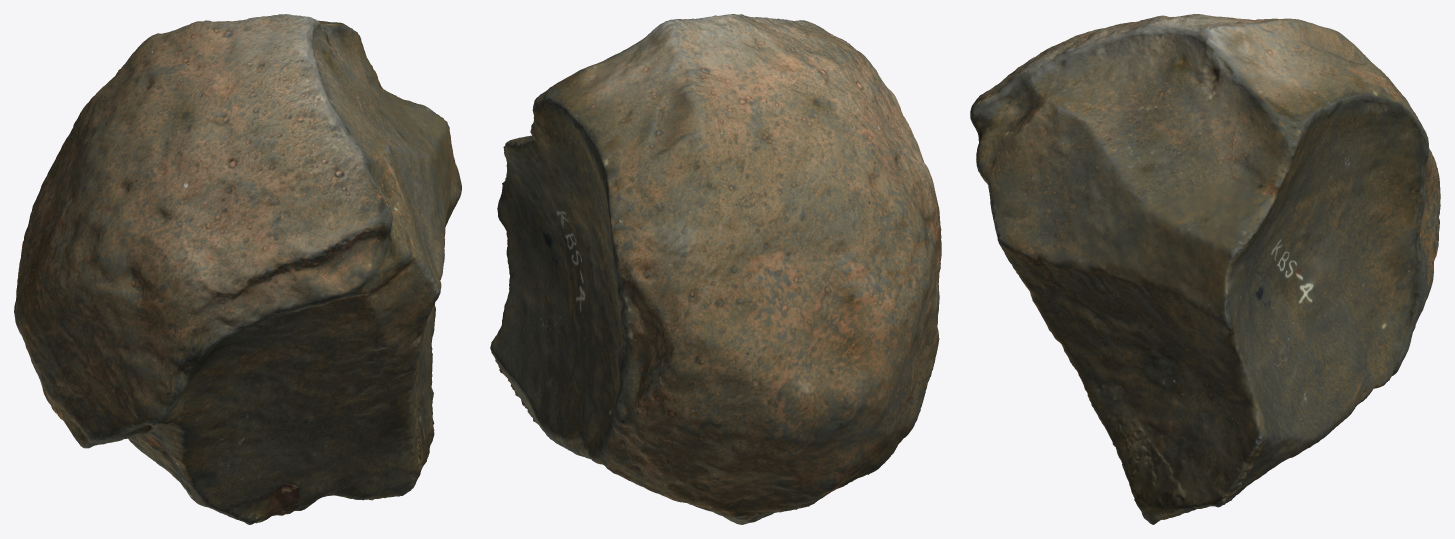
The model's file is mysteryToolA.glb.
The picture shows the model from 3 angles, left to right: view 1: azimuth 30°, elevation 25°; view 2: azimuth 150°, elevation 25°; view 3: azimuth 270°, elevation 25°; orthographic projection. The views are drawn at different scales.
Parts seen in each view (by area): view 1: MAIN_MESH; view 2: MAIN_MESH; view 3: MAIN_MESH.
Part boxes in pixels (bbox=[...]): MAIN_MESH: bbox=[14, 14, 461, 524]; MAIN_MESH: bbox=[490, 14, 941, 524]; MAIN_MESH: bbox=[970, 14, 1440, 524].
Bounding box in the file's own units: 0.0738 × 0.0841 × 0.0752.
1 material, 1 textured.
